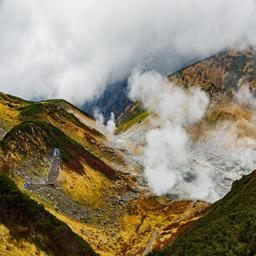Cuckoo: (23, 148, 67, 190)
